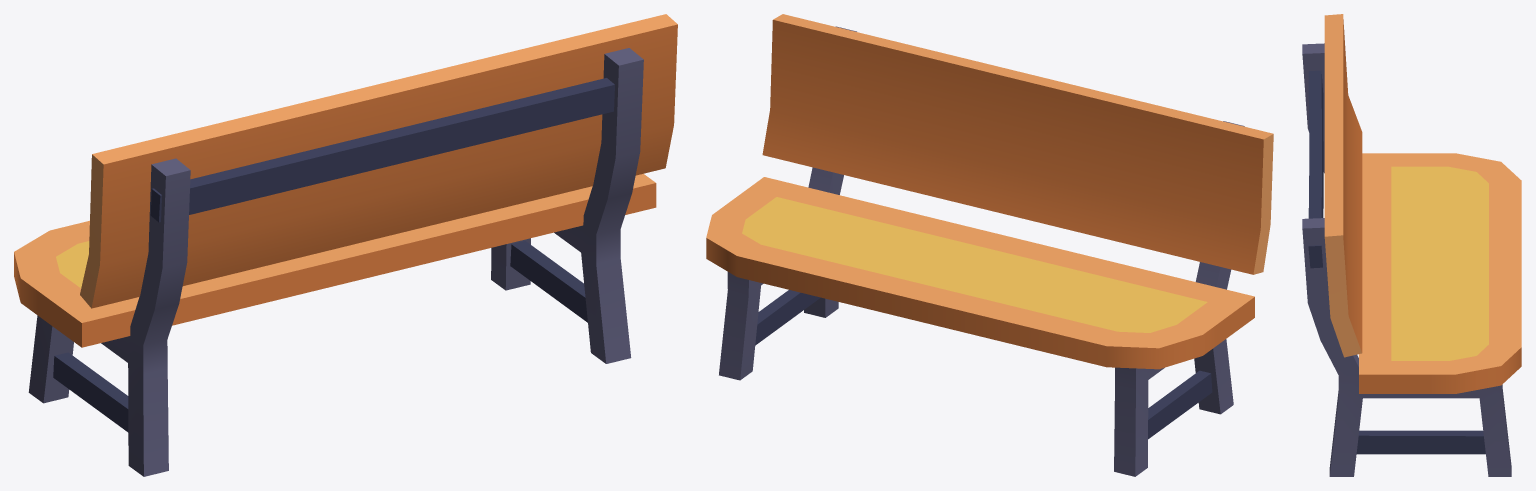
The model's file is Bank.fbx.
The picture shows the model from 3 angles, left to right: view 1: azimuth 30°, elevation 25°; view 2: azimuth 150°, elevation 25°; view 3: azimuth 270°, elevation 25°; orthographic projection. The views are drawn at different scales.
Visible parts, largest first — view 1: Bank; view 2: Bank; view 3: Bank.
Part boxes in pixels (box(x1,y1,x2,y2)): Bank: box(14, 14, 677, 476); Bank: box(706, 14, 1273, 476); Bank: box(1302, 14, 1521, 476).
Size of the model in its own units: 155 by 84.31 by 64.82.
1 material, 1 textured.
